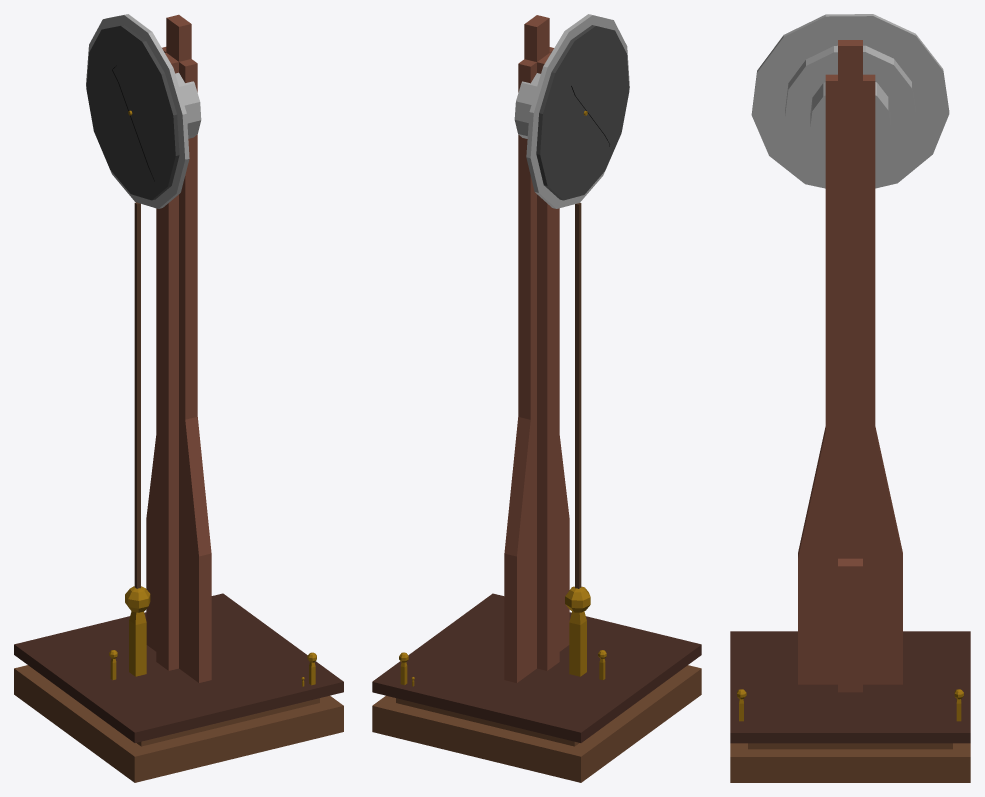
File: Clock_on_a_stick.fbx
The picture shows the model from 3 angles, left to right: view 1: azimuth 30°, elevation 25°; view 2: azimuth 150°, elevation 25°; view 3: azimuth 270°, elevation 25°; orthographic projection.
Visible parts, largest first — view 1: Cube.054; view 2: Cube.054; view 3: Cube.054.
Boxes of the visible parts, box(x1,y1,x2,y2) form: Cube.054: box(14, 14, 343, 782); Cube.054: box(372, 14, 701, 782); Cube.054: box(730, 14, 970, 782).
Bounding box in the file's own units: 100 × 320 × 100.
